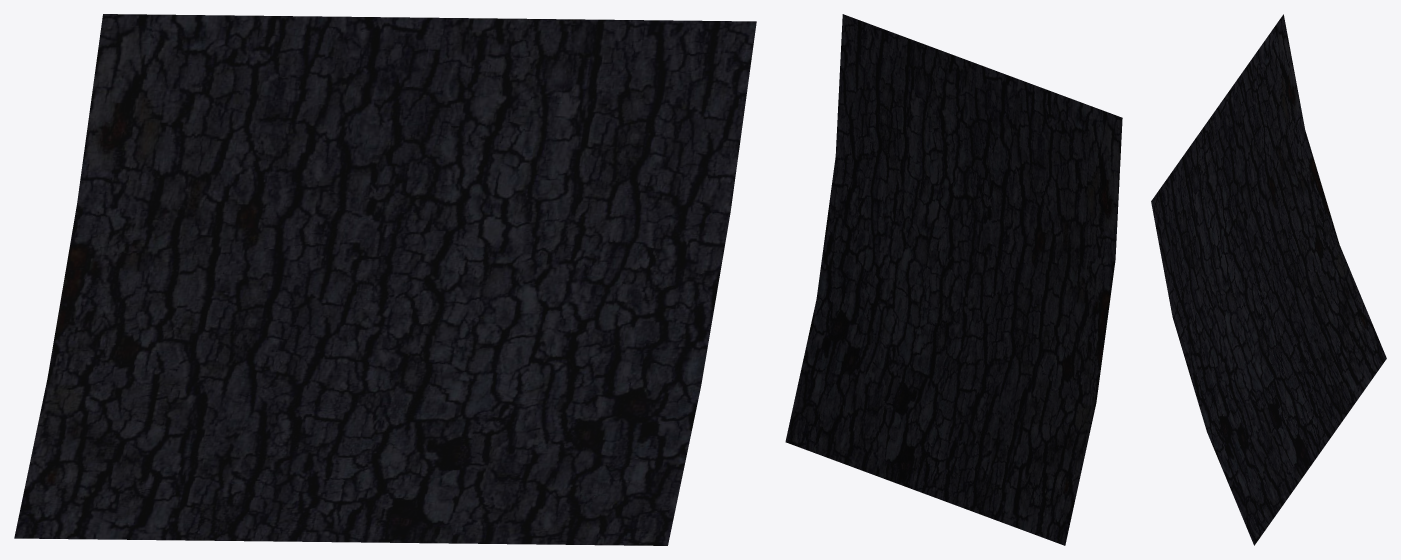
The model's file is treetest5.fbx.
3 views of the same model, side by side, from view 1: azimuth 30°, elevation 25°; view 2: azimuth 150°, elevation 25°; view 3: azimuth 270°, elevation 25° (orthographic). The views are drawn at different scales.
Parts seen in each view (by area): view 1: Skeleton; view 2: Skeleton; view 3: Skeleton.
Boxes of the visible parts, <box> form: Skeleton: <box>14,14,756,545</box>; Skeleton: <box>785,14,1122,545</box>; Skeleton: <box>1151,14,1386,545</box>.
Bounding box in the file's own units: 51.6 × 58.03 × 32.84.
